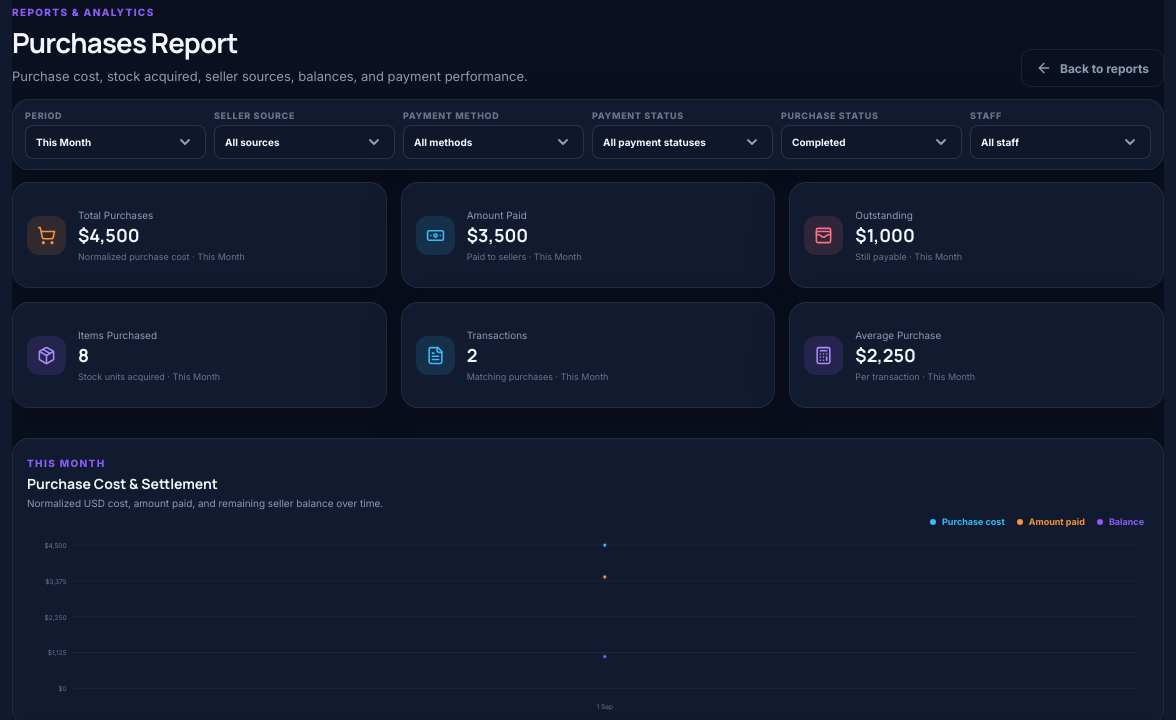
Purchases Report View › discards stale response when purchase filter changes rapidly
Expected: the text "$4,500" is shown, [78, 223, 140, 247]
Select SUPPLIER (slow)
Select "Suppliers" in the dropdown labelled "Seller source" at {"x": 304, "y": 142}, box [214, 125, 395, 159]
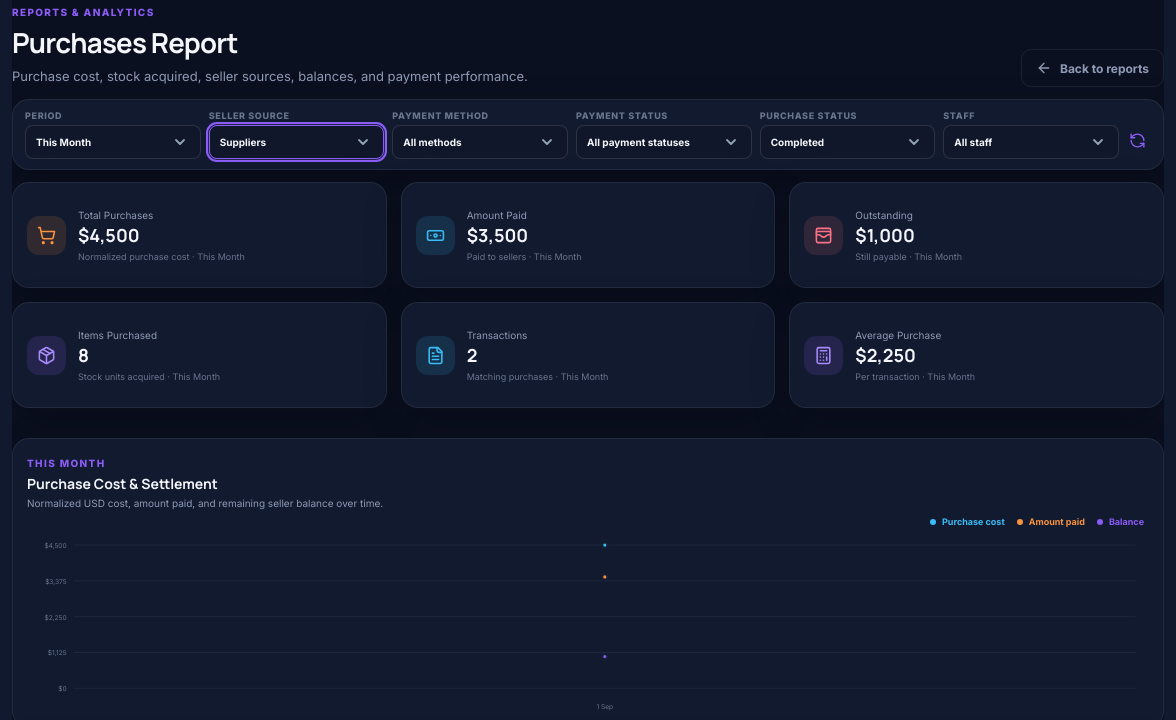
Immediately select CUSTOMER (fast)
Select "Customers" in the dropdown labelled "Seller source" at {"x": 297, "y": 142}, box [209, 125, 384, 159]
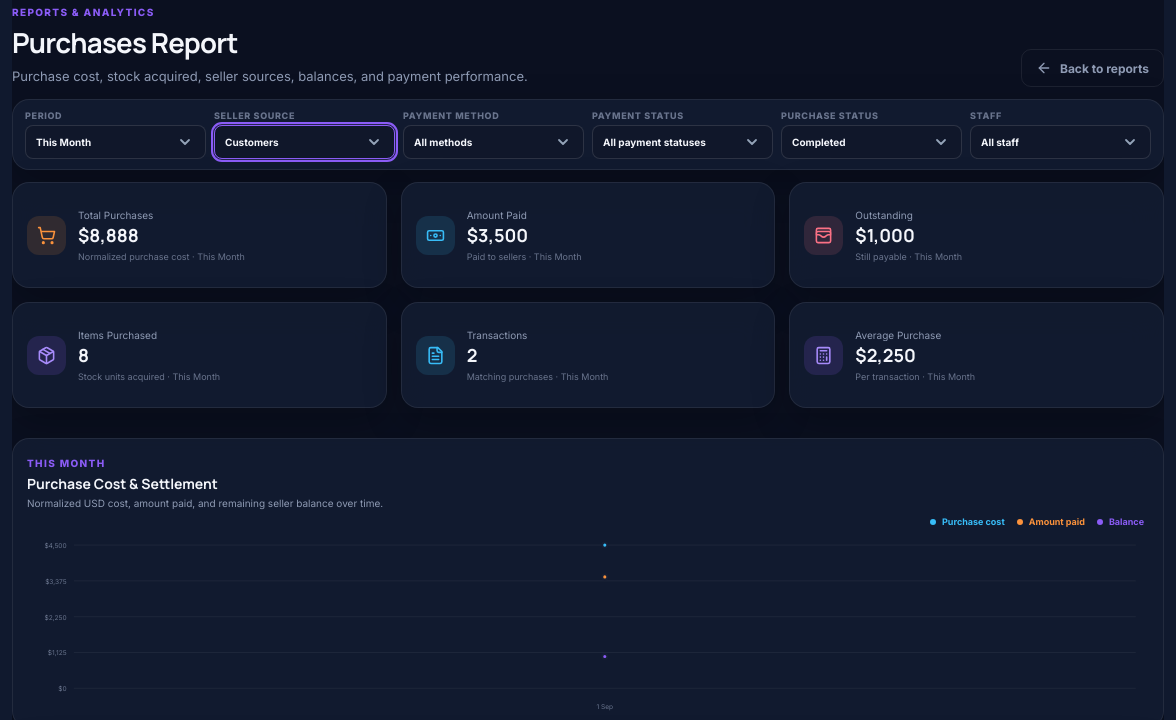
Now the text "$8,888" is shown, box [78, 223, 139, 247]
